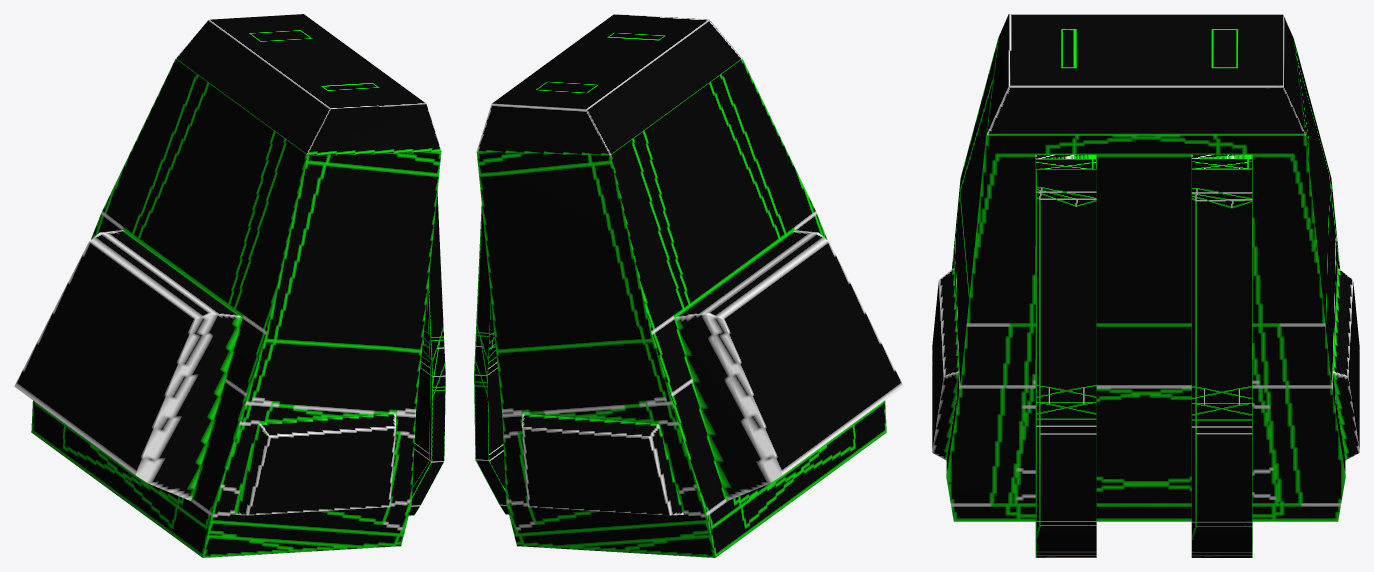
The model's file is tas dalam.FBX.
The picture shows the model from 3 angles, left to right: view 1: azimuth 30°, elevation 25°; view 2: azimuth 150°, elevation 25°; view 3: azimuth 270°, elevation 25°; orthographic projection. The views are drawn at different scales.
Visible parts, largest first — view 1: tas dalam; view 2: tas dalam; view 3: tas dalam.
Part boxes in pixels (left/top/right/bottom): tas dalam: left=14, top=14, right=445, bottom=557; tas dalam: left=474, top=14, right=903, bottom=557; tas dalam: left=932, top=14, right=1359, bottom=557.
Bounding box in the file's own units: 9.91 × 12.91 × 10.17.
